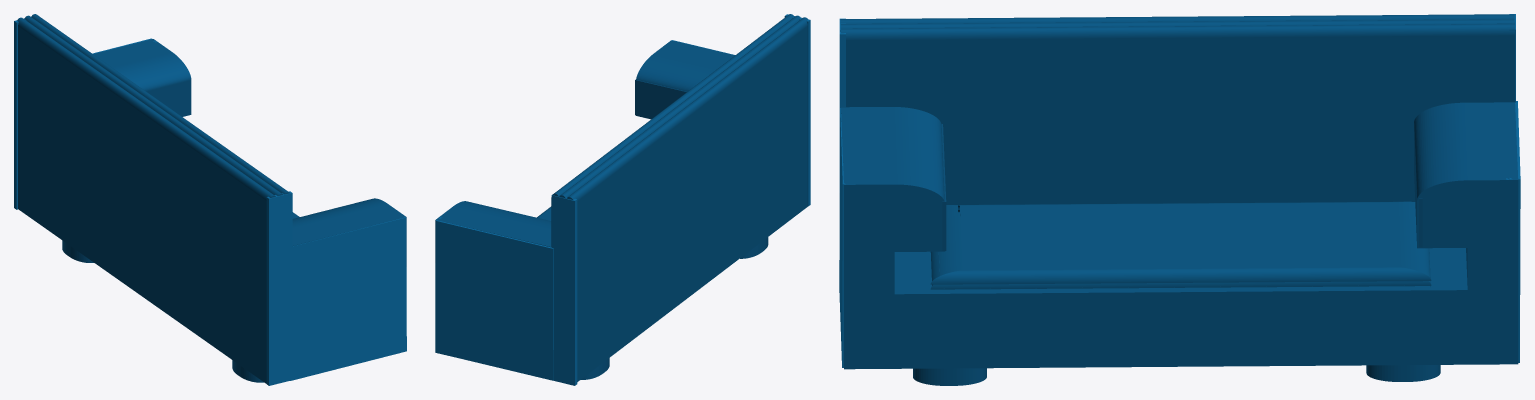
Rendered from sillon.obj.
3 views of the same model, side by side, from view 1: azimuth 30°, elevation 25°; view 2: azimuth 150°, elevation 25°; view 3: azimuth 270°, elevation 25° (orthographic). The views are drawn at different scales.
Parts seen in each view (by area): view 1: polySurface79 polySurface77, pCube5, pCube6, pCube3; view 2: polySurface79 polySurface77, pCube8, pCube3, pCube4, pCube6; view 3: polySurface79 polySurface77, pCube5, pCube8, pCube6.
Part boxes in pixels (x1,y1,x2,y2): polySurface79 polySurface77: [17, 14, 406, 383]; pCube5: [290, 217, 406, 380]; pCube6: [266, 191, 292, 385]; pCube3: [14, 18, 26, 209]; polySurface79 polySurface77: [435, 14, 807, 381]; pCube8: [435, 218, 553, 380]; pCube3: [551, 194, 577, 385]; pCube4: [635, 79, 686, 118]; pCube6: [784, 14, 810, 206]; polySurface79 polySurface77: [840, 14, 1518, 385]; pCube5: [839, 108, 845, 367]; pCube8: [1509, 101, 1520, 362]; pCube6: [839, 18, 845, 192].
Bounding box in the file's own units: 1.88 × 2.56 × 5.48.
3 materials, 3 textured.
